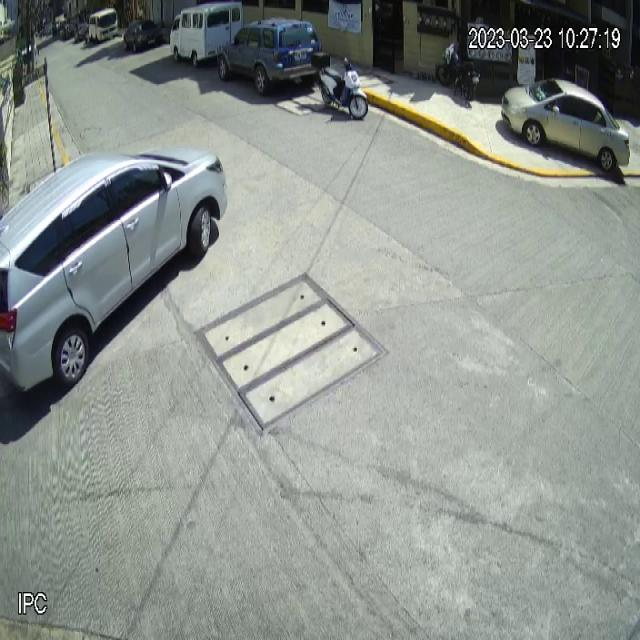Car: (0, 141, 230, 405), (501, 76, 630, 173), (216, 16, 321, 98)
Motorcycle: (316, 56, 368, 121)
Van: (169, 0, 243, 67)
